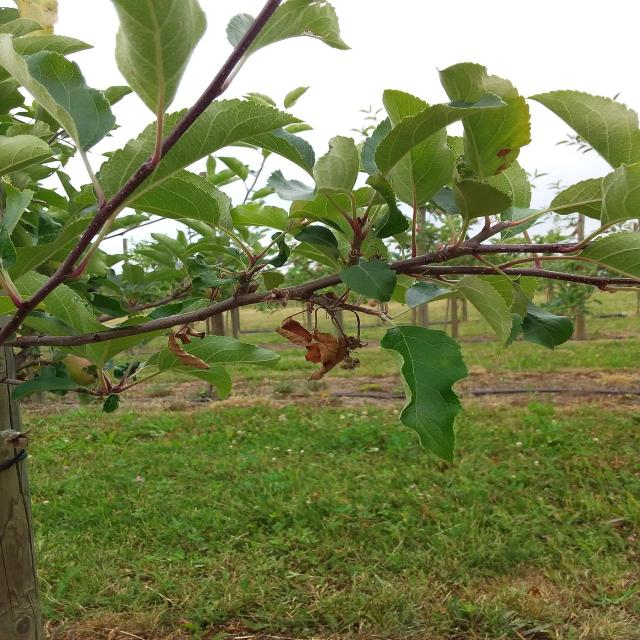-FireBlight-: (272, 294, 364, 373), (162, 318, 210, 369)
